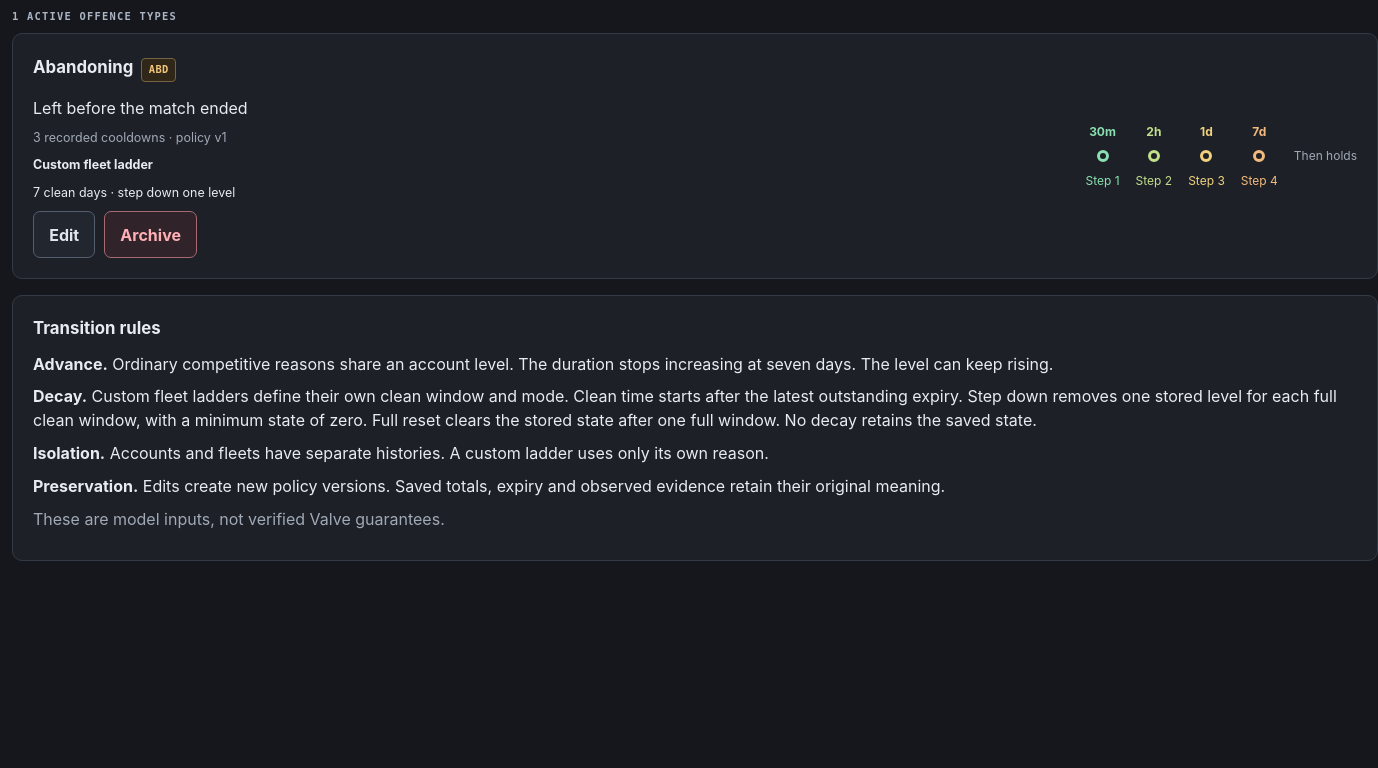
accessible fleet views in Chromium › requires a second archive action and states that associated history stays preserved
Later steps or results of the test are not shown.
Click the button with aria-label "Archive Abandoning" at [151, 235], box [104,211,197,258]
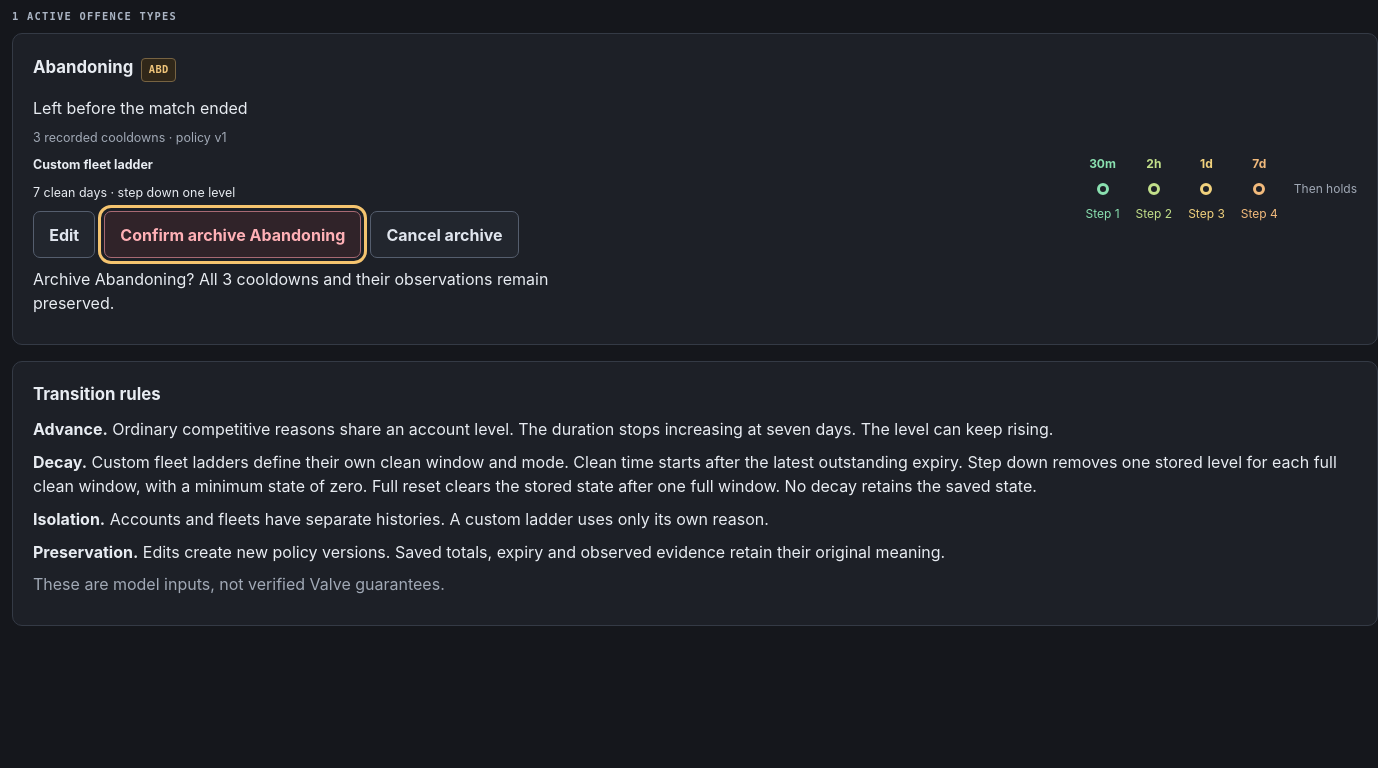
Expected: the message reads "Archive Abandoning? All 3 cooldowns and their observations remain preserved.", [33,267,588,315]
